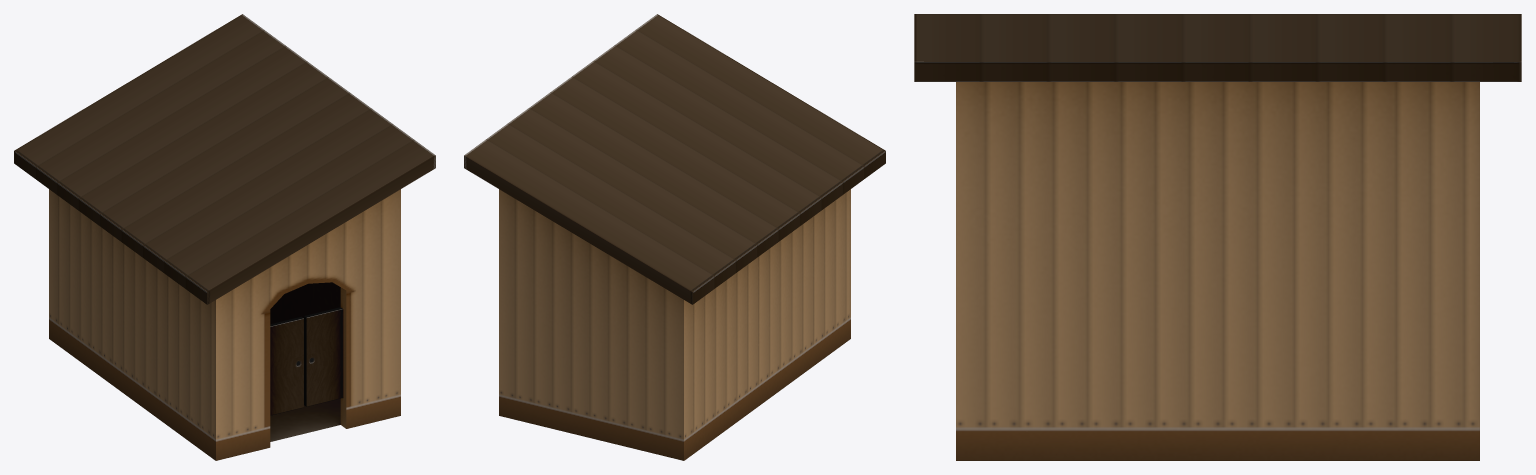
Rendered from stable.fbx.
3 views of the same model, side by side, from view 1: azimuth 30°, elevation 25°; view 2: azimuth 150°, elevation 25°; view 3: azimuth 270°, elevation 25° (orthographic). The views are drawn at different scales.
Parts seen in each view (by area): view 1: stable_geo, door_R_geo, door_L_geo; view 2: stable_geo; view 3: stable_geo.
Boxes of the visible parts, x1=… form: stable_geo: x1=14, y1=14, x2=435, y2=460; door_R_geo: x1=304, y1=307, x2=343, y2=406; door_L_geo: x1=270, y1=316, x2=303, y2=415; stable_geo: x1=464, y1=14, x2=885, y2=460; stable_geo: x1=914, y1=14, x2=1521, y2=460.
Bounding box in the file's own units: 0.0399 × 0.0441 × 0.0584.
